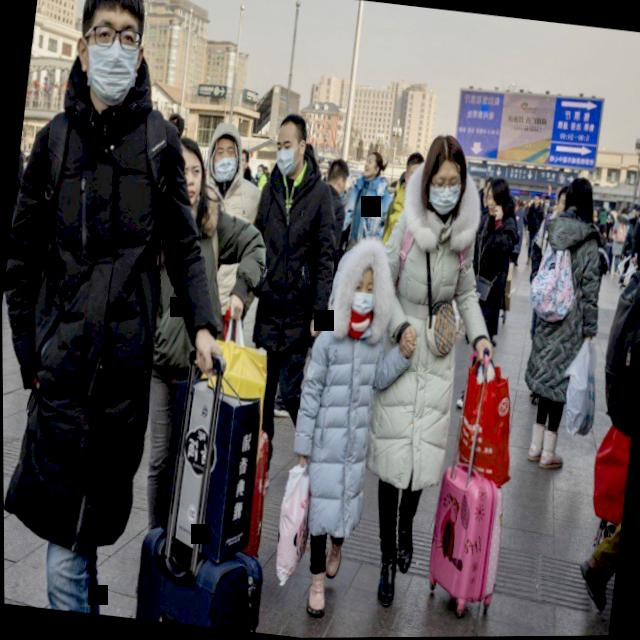Mask: (78, 0, 147, 109), (426, 158, 464, 220), (272, 124, 306, 179), (348, 272, 382, 318), (207, 138, 240, 185), (337, 175, 348, 201), (256, 166, 263, 179), (543, 201, 548, 208)
NO-Mask: (177, 152, 204, 205), (485, 188, 503, 218), (362, 155, 381, 181), (557, 195, 569, 217), (483, 182, 490, 198), (239, 156, 247, 170), (533, 196, 539, 206)
